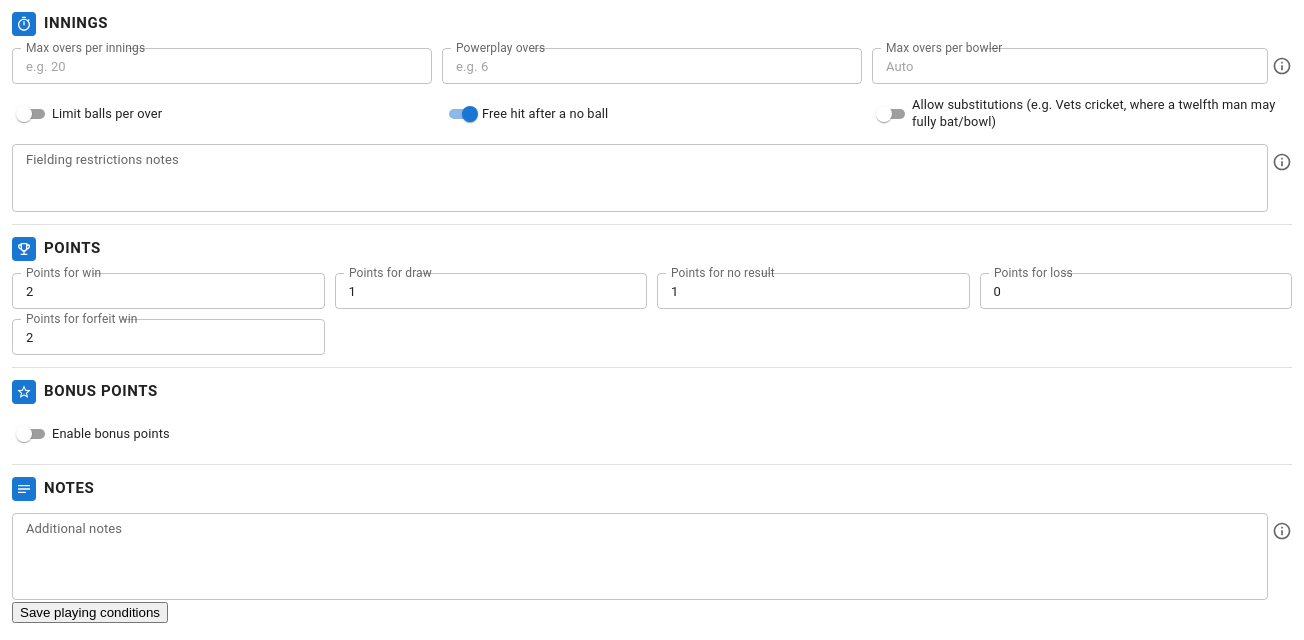
Test: PlayingConditionsForm › carries the long explanations verbatim in info-icon tooltips
Hover over the picture named "About fielding restrictions notes": (1282,162) [1272,152,1292,172]
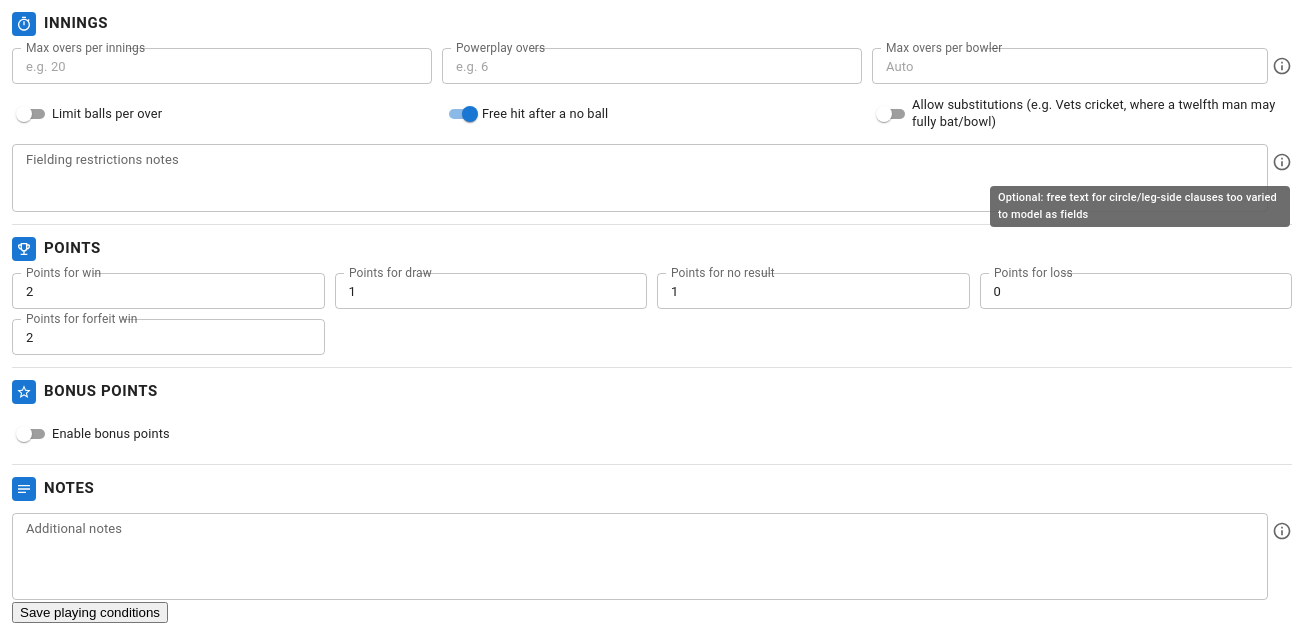
Expected: the text "Optional: free text for circle/leg-side clauses too varied to model as fields" is shown, [990,186,1290,227]
Click the checkbox labelled "Enable bonus points": (93,434) [16,426,170,442]
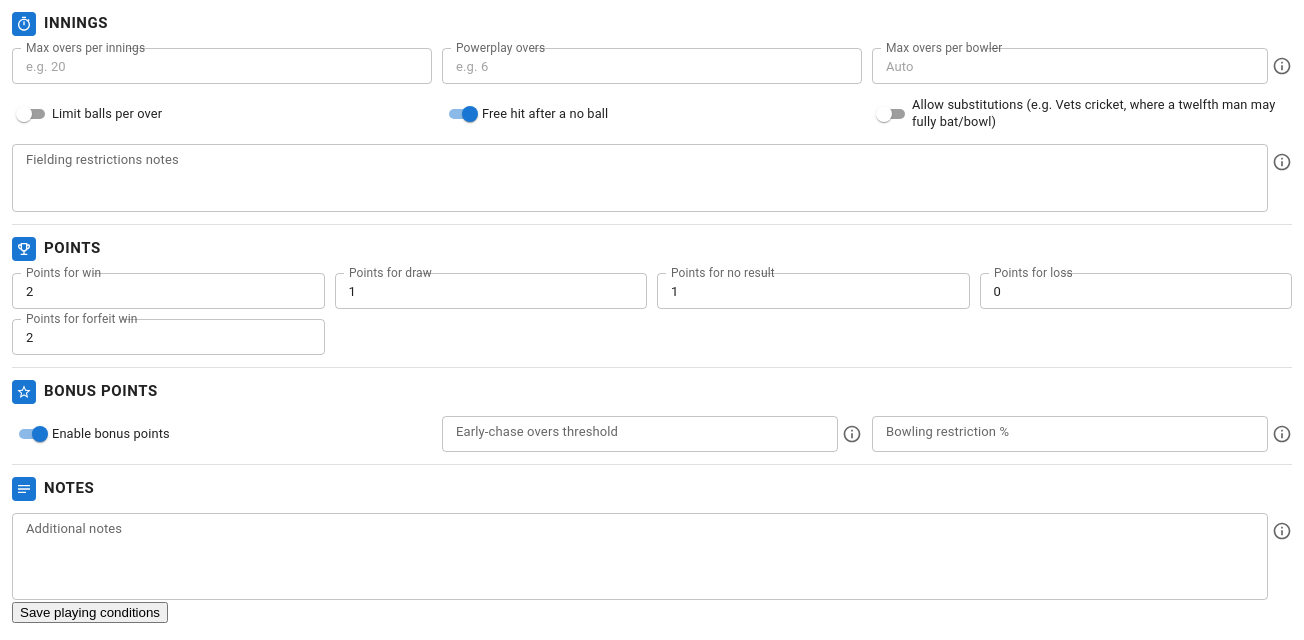
Hover over the picture named "About the early-chase overs threshold": (852,434) [842,424,862,444]
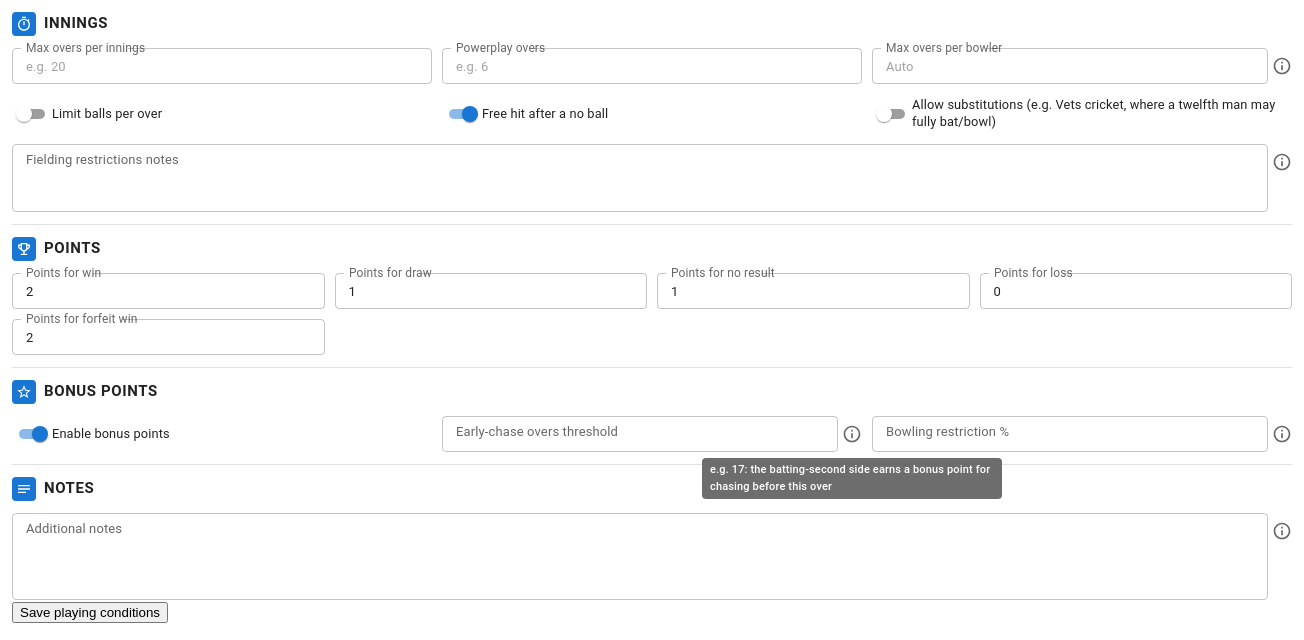
Expected: the text "e.g. 17: the batting-second side earns a bonus point for chasing before this over" is shown, [710,463,990,492]
